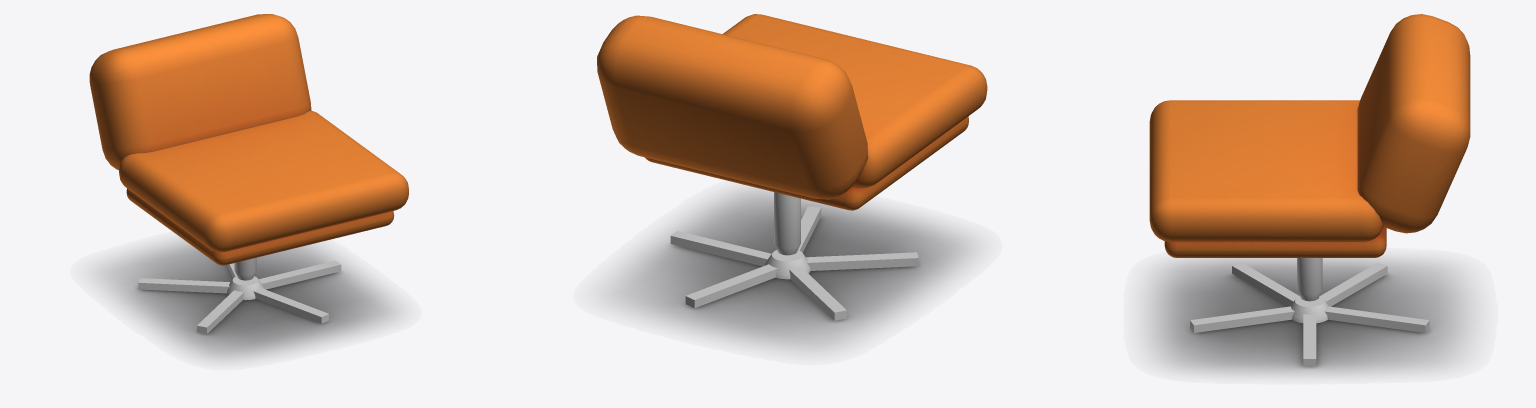
The model's file is chair.glb.
The picture shows the model from 3 angles, left to right: view 1: azimuth 30°, elevation 25°; view 2: azimuth 150°, elevation 25°; view 3: azimuth 270°, elevation 25°; orthographic projection. The views are drawn at different scales.
Visible parts, largest first — view 1: ikea-armchairs__DYVLINGE swivel easy chair__mesh, ikea-armchairs__DYVLINGE swivel easy chair__shadow; view 2: ikea-armchairs__DYVLINGE swivel easy chair__mesh, ikea-armchairs__DYVLINGE swivel easy chair__shadow; view 3: ikea-armchairs__DYVLINGE swivel easy chair__mesh, ikea-armchairs__DYVLINGE swivel easy chair__shadow.
Boxes of the visible parts, box(x1,y1,x2,y2) form: ikea-armchairs__DYVLINGE swivel easy chair__mesh: box(89, 14, 408, 333); ikea-armchairs__DYVLINGE swivel easy chair__shadow: box(101, 241, 395, 358); ikea-armchairs__DYVLINGE swivel easy chair__mesh: box(597, 14, 987, 320); ikea-armchairs__DYVLINGE swivel easy chair__shadow: box(611, 189, 970, 348); ikea-armchairs__DYVLINGE swivel easy chair__mesh: box(1149, 14, 1470, 366); ikea-armchairs__DYVLINGE swivel easy chair__shadow: box(1149, 258, 1468, 373).
Size of the model in its own units: 0.87 by 0.6684 by 0.9907.
Materials: 3 (2 with a texture image).
